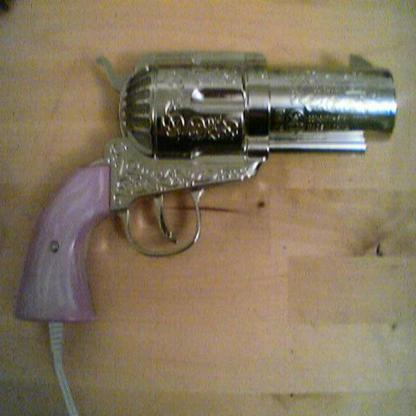Handgun: (15, 52, 398, 322)
